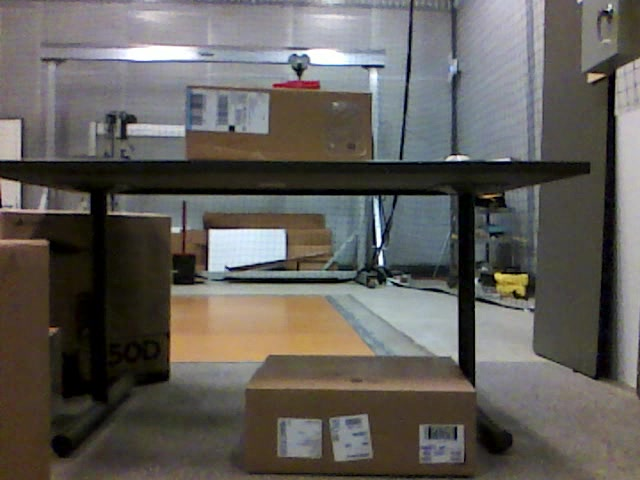box: (1, 208, 169, 382), (246, 355, 474, 472), (185, 85, 375, 160), (1, 240, 50, 479)
